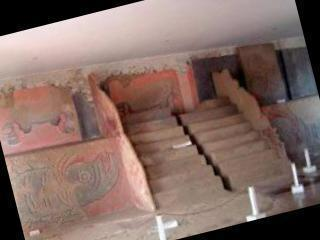Escaleras: (118, 105, 230, 218), (186, 91, 297, 194)
